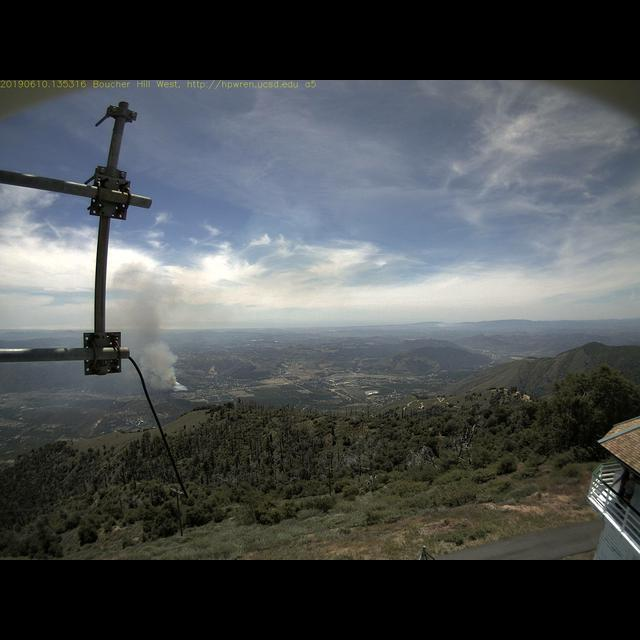Smoke: (107, 260, 197, 393)
